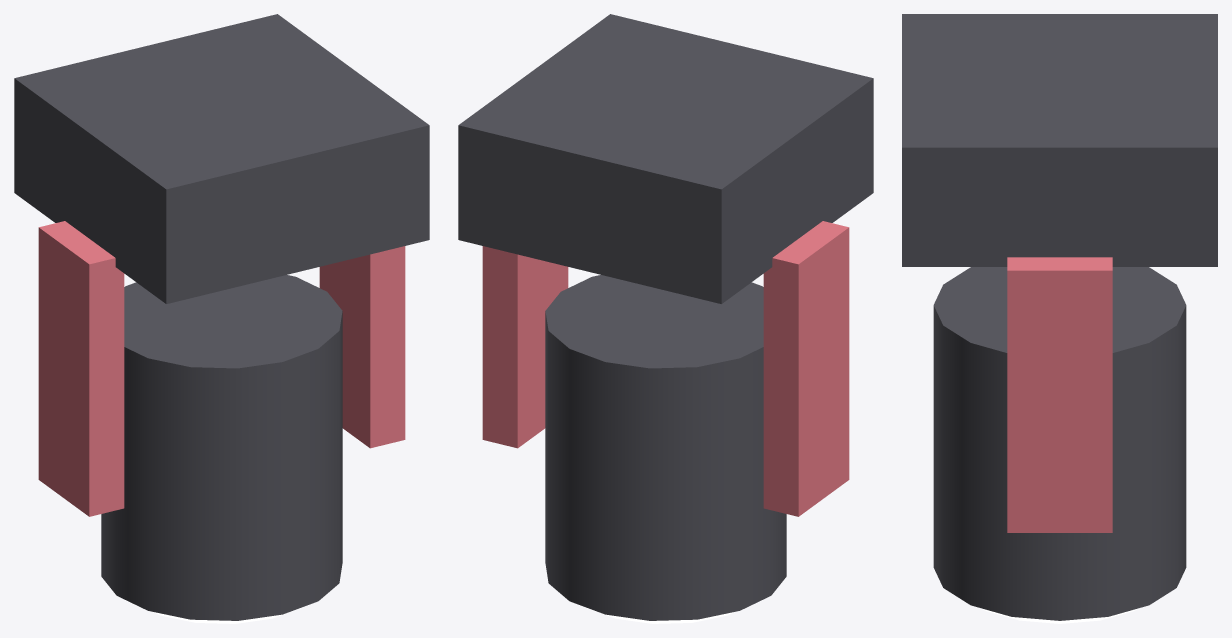
Rendered from spotlight.glb.
3 views of the same model, side by side, from view 1: azimuth 30°, elevation 25°; view 2: azimuth 150°, elevation 25°; view 3: azimuth 270°, elevation 25° (orthographic). The views are drawn at different scales.
Visible parts, largest first — view 1: spotlight, Head; view 2: spotlight, Head; view 3: spotlight, Head.
Part boxes in pixels (x1,y1,x2,y2): spotlight: [14, 14, 429, 516]; Head: [101, 275, 342, 623]; spotlight: [458, 14, 873, 516]; Head: [545, 275, 786, 623]; spotlight: [902, 14, 1217, 532]; Head: [933, 267, 1186, 623].
Size of the model in its own units: 0.72 by 1.04 by 0.6.
